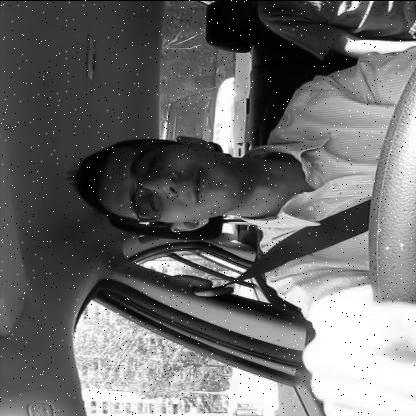seatbelt: (68, 109, 404, 300)
